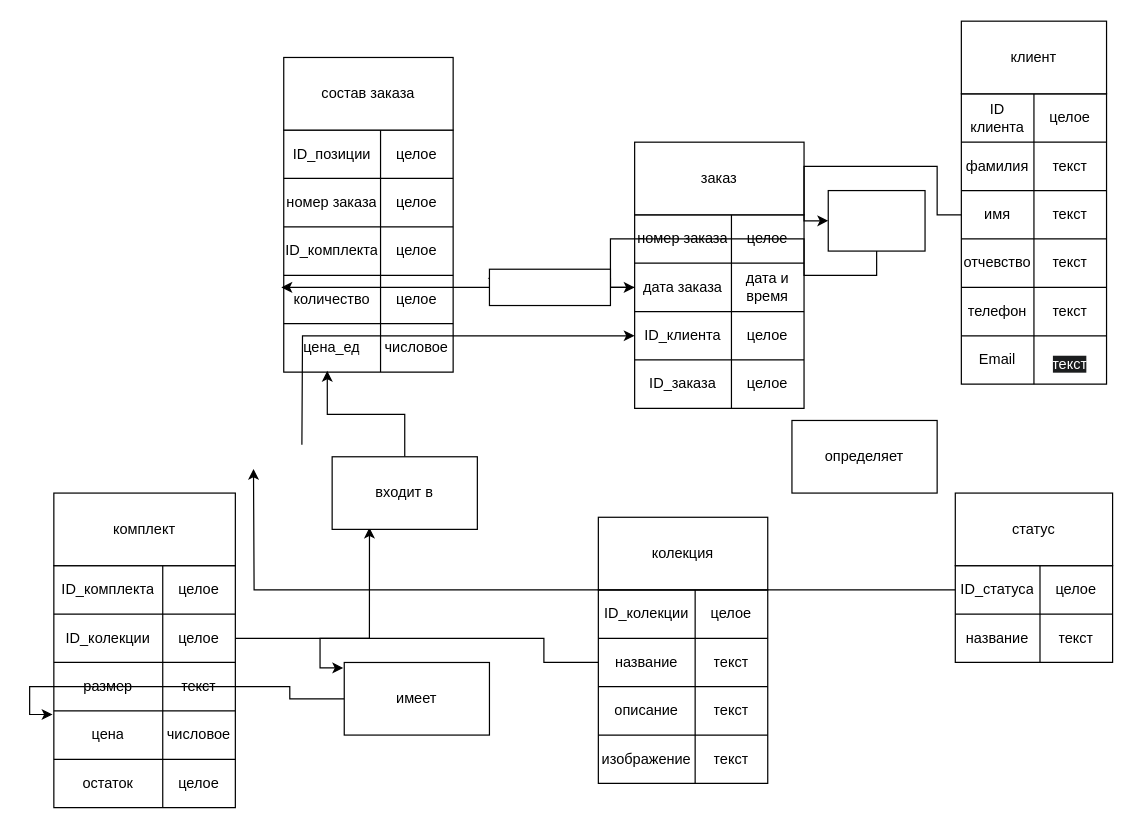
This 1134x829 diagram has some shape labels left out. Here are the shapes that lost their labels. From the top down, the centre of each, then its label:
(x=876, y=220): оформляет
(x=549, y=287): содержит
